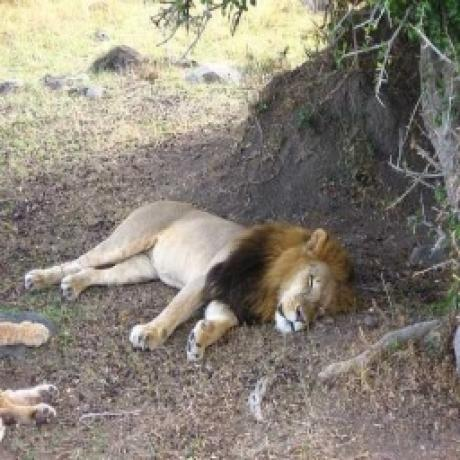Lion: (20, 197, 363, 364)
